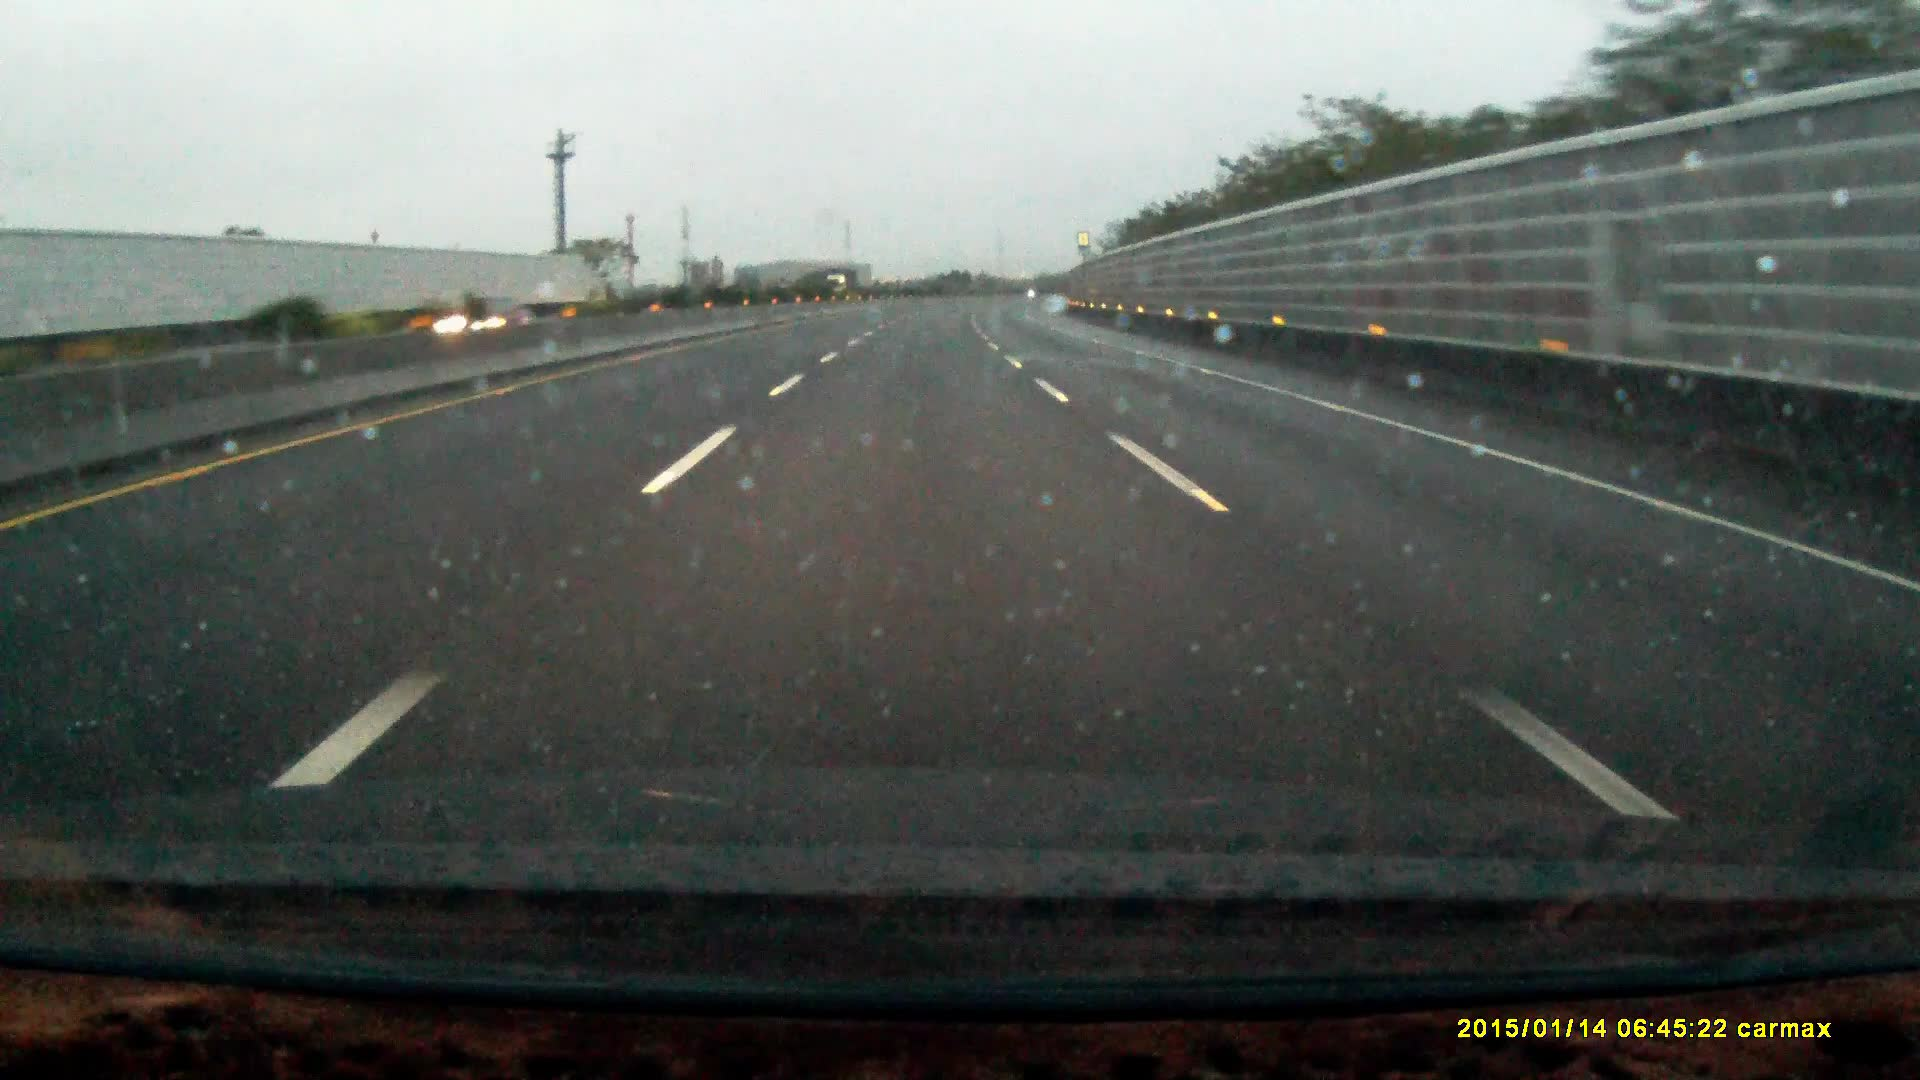vehicle: (431, 295, 543, 353), (825, 266, 858, 305)
